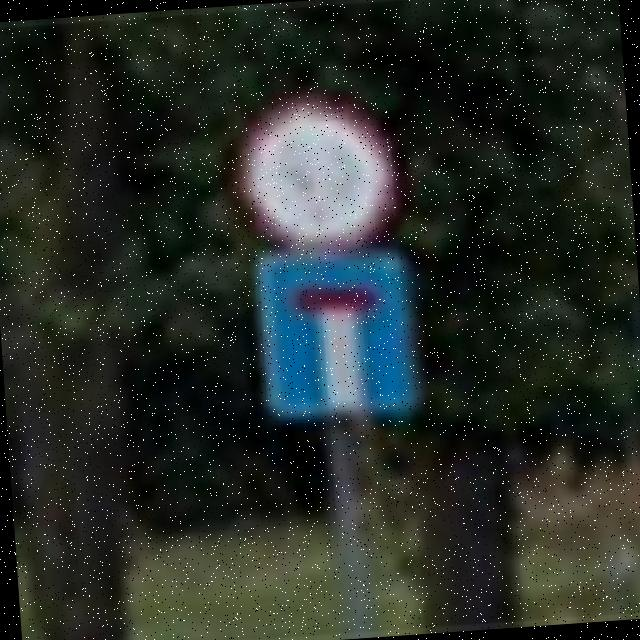Zakaz ruchu w obu kierunkach: (228, 86, 403, 260)
